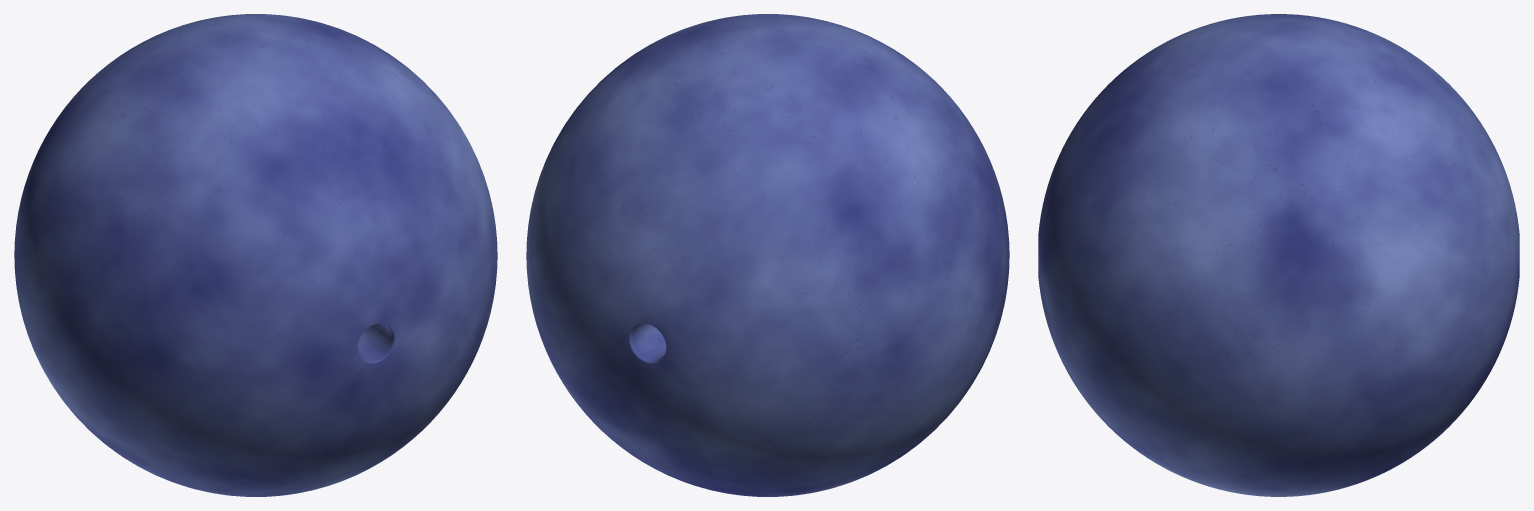
Rendered from tanzanite-12mm.glb.
3 renders of one model, left to right at view 1: azimuth 30°, elevation 25°; view 2: azimuth 150°, elevation 25°; view 3: azimuth 270°, elevation 25°, orthographic.
Parts seen in each view (by area): view 1: tanzanite.001; view 2: tanzanite.001; view 3: tanzanite.001.
Boxes of the visible parts, box(x1,y1,x2,y2) form: tanzanite.001: box(14, 14, 497, 496); tanzanite.001: box(526, 14, 1009, 496); tanzanite.001: box(1038, 14, 1519, 496).
Size of the model in its own units: 0.012 by 0.012 by 0.012.
Materials: 2 (1 with a texture image).
